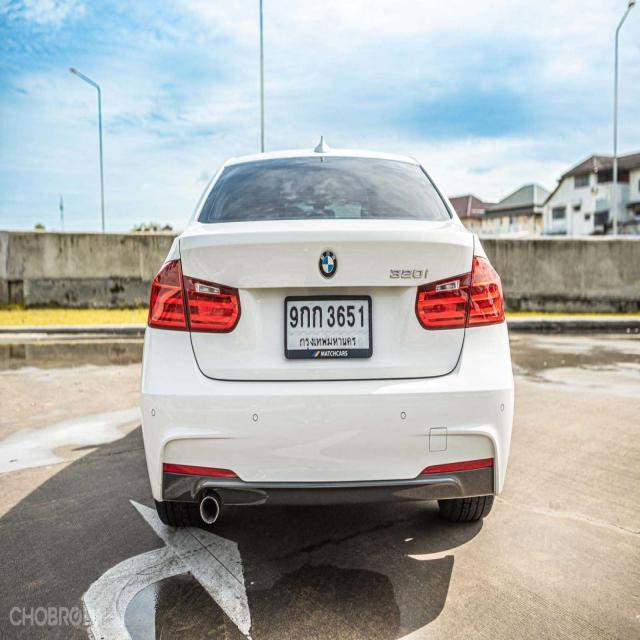license_plate: (282, 292, 376, 364)
